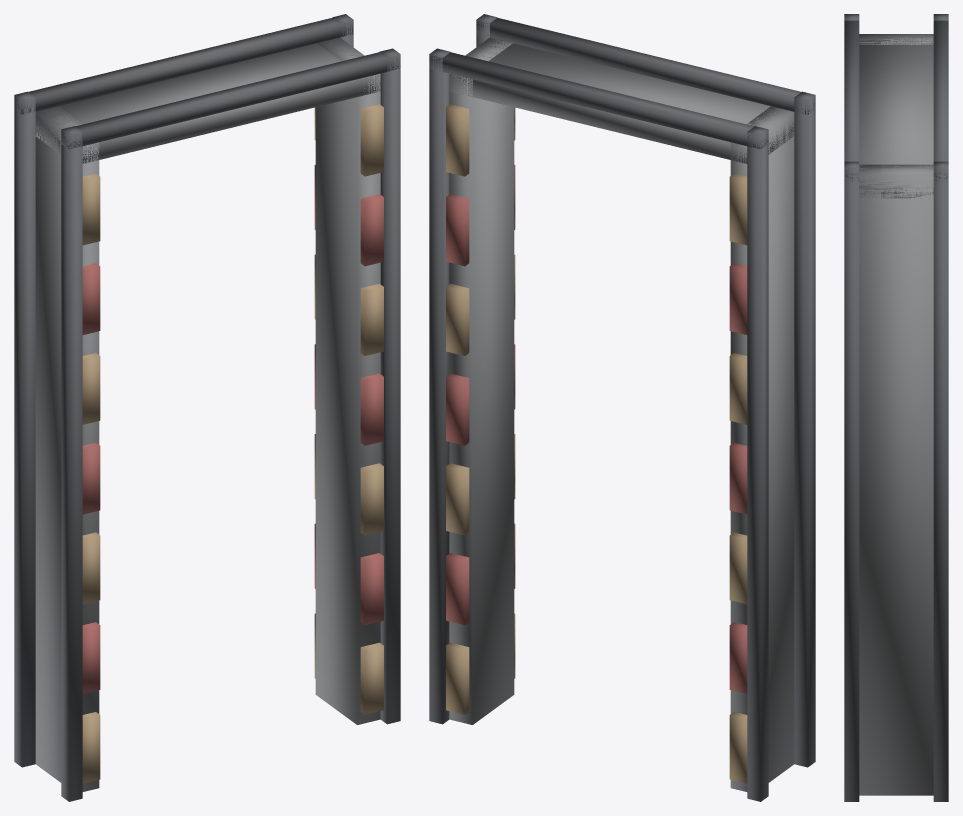
File: doorway_brick_return_w86_h200_d24.glb
The picture shows the model from 3 angles, left to right: view 1: azimuth 30°, elevation 25°; view 2: azimuth 150°, elevation 25°; view 3: azimuth 270°, elevation 25°; orthographic projection. The views are drawn at different scales.
Visible parts, largest first — view 1: world; view 2: world; view 3: world.
Part boxes in pixels (bbox=[...]): world: bbox=[14, 14, 400, 801]; world: bbox=[429, 14, 815, 801]; world: bbox=[844, 14, 948, 801].
Bounding box in the file's own units: 1.1 × 2.12 × 0.3165.
